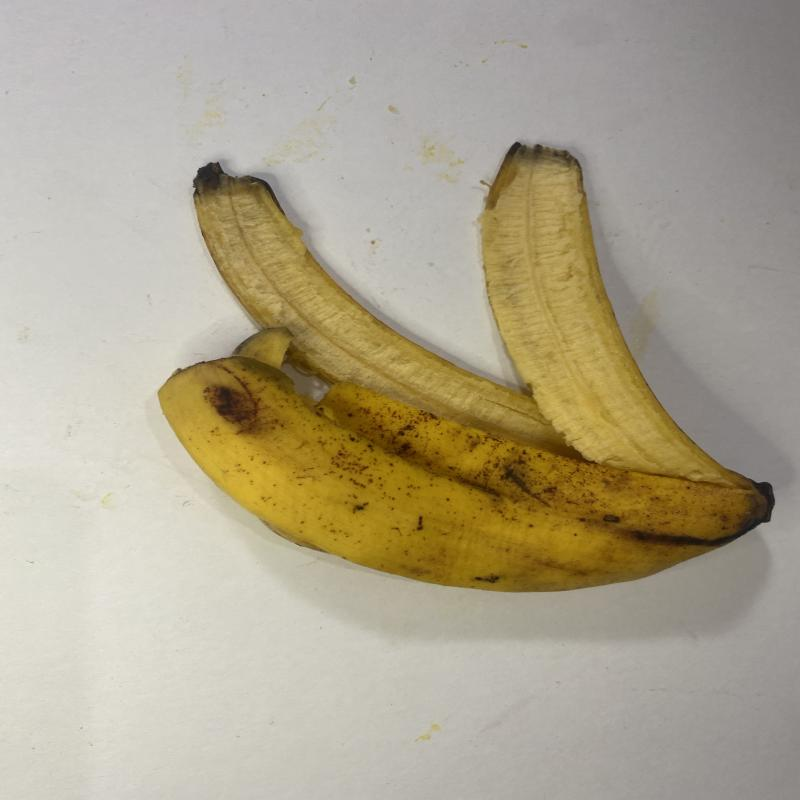fruit peels: (154, 142, 775, 596)
